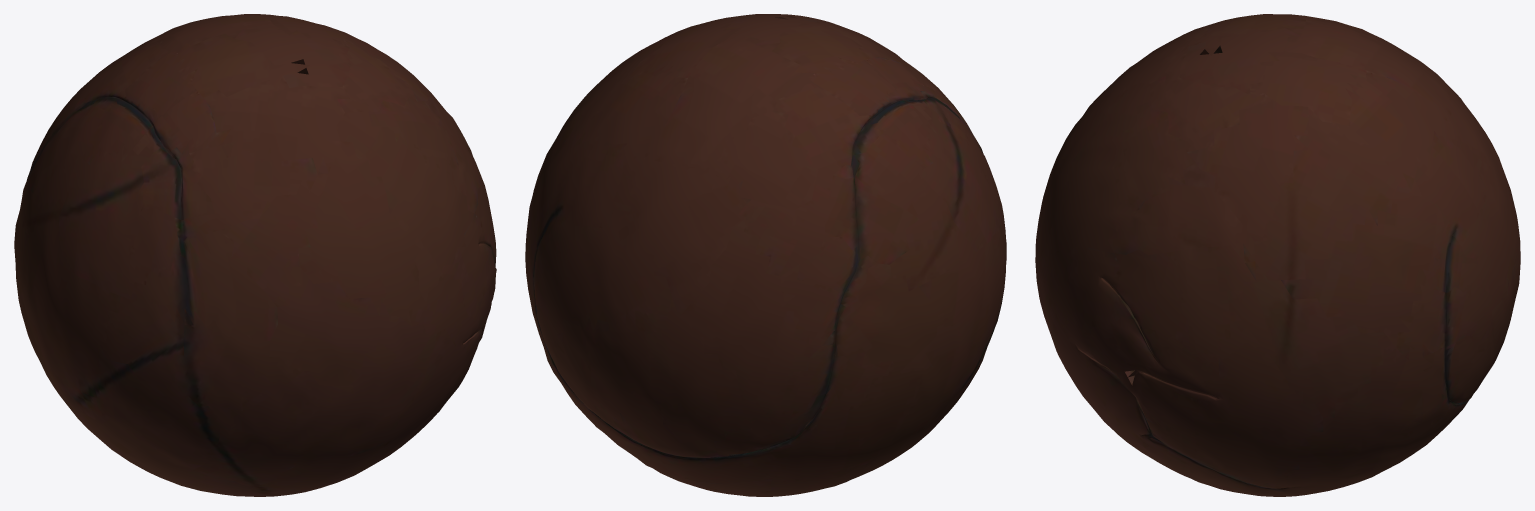
File: ball.glb
3 views of the same model, side by side, from view 1: azimuth 30°, elevation 25°; view 2: azimuth 150°, elevation 25°; view 3: azimuth 270°, elevation 25° (orthographic).
Visible parts, largest first — view 1: midway-fit; view 2: midway-fit; view 3: midway-fit.
Part boxes in pixels (bbox=[...]): midway-fit: bbox=[14, 14, 496, 496]; midway-fit: bbox=[525, 14, 1006, 496]; midway-fit: bbox=[1035, 14, 1520, 496].
Size of the model in its own units: 0.9954 by 0.9979 by 1.
Materials: 1 (1 with a texture image).
